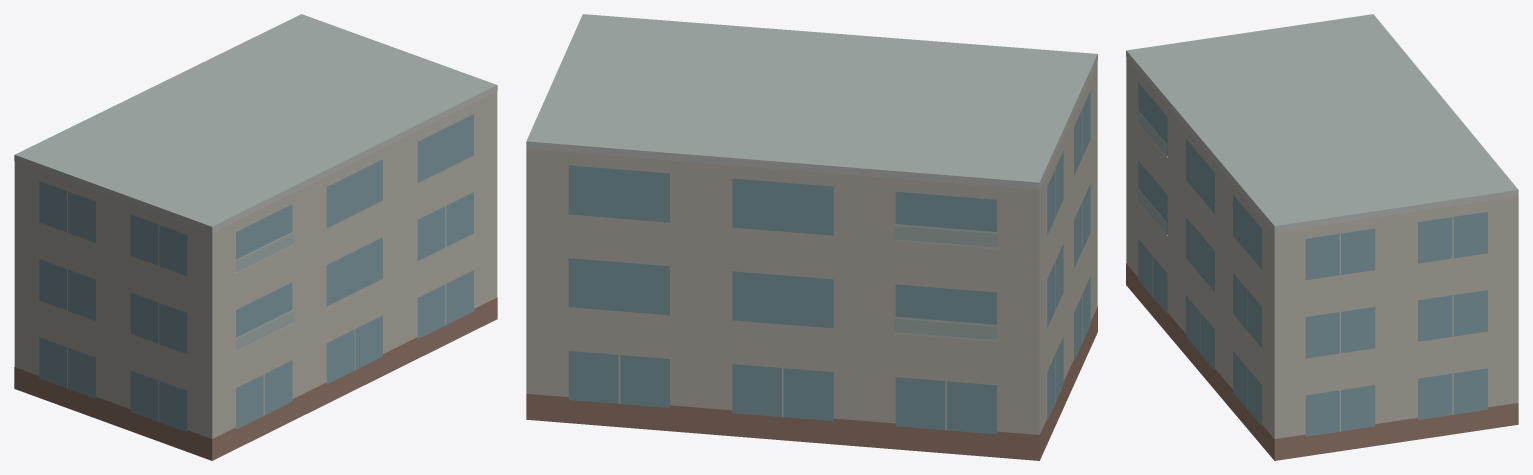
The model's file is survey-upis-32702953.glb.
3 views of the same model, side by side, from view 1: azimuth 30°, elevation 25°; view 2: azimuth 150°, elevation 25°; view 3: azimuth 270°, elevation 25° (orthographic). The views are drawn at different scales.
Visible parts, largest first — view 1: survey-upis-32702953.tmp; view 2: survey-upis-32702953.tmp; view 3: survey-upis-32702953.tmp.
Boxes of the visible parts, bbox=[...] form: survey-upis-32702953.tmp: bbox=[14, 14, 497, 460]; survey-upis-32702953.tmp: bbox=[526, 14, 1097, 460]; survey-upis-32702953.tmp: bbox=[1126, 14, 1518, 460].
Bounding box in the file's own units: 17.75 × 9.15 × 13.87.
